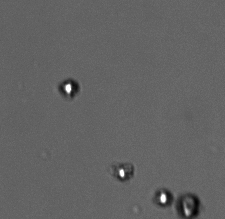Dead Cell: (176, 193, 202, 217)
Living Cell: (59, 77, 80, 97), (155, 187, 172, 207), (114, 162, 132, 180)
